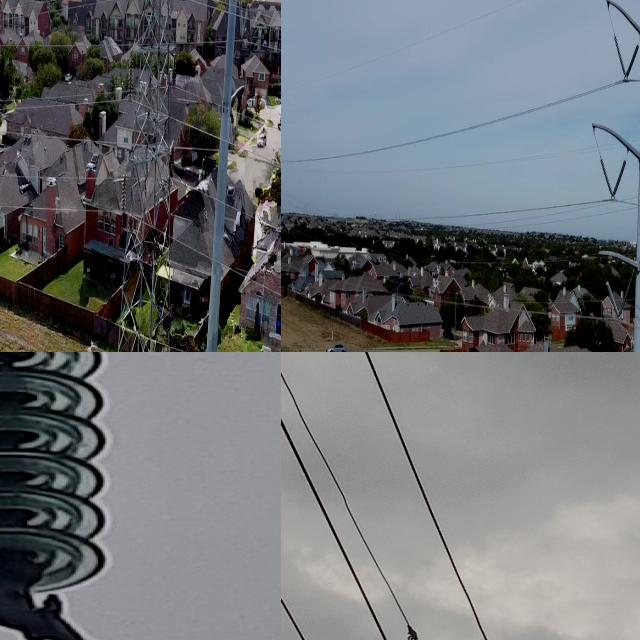杆塔: (100, 0, 177, 352)
植被遮挡: (399, 619, 425, 640)
正常绝缘子: (0, 352, 120, 630), (605, 153, 631, 217), (610, 271, 636, 332), (607, 21, 631, 86), (598, 265, 623, 326), (595, 145, 618, 206), (618, 35, 640, 92), (119, 164, 128, 228), (127, 50, 134, 100), (171, 50, 178, 89), (169, 143, 176, 181)
